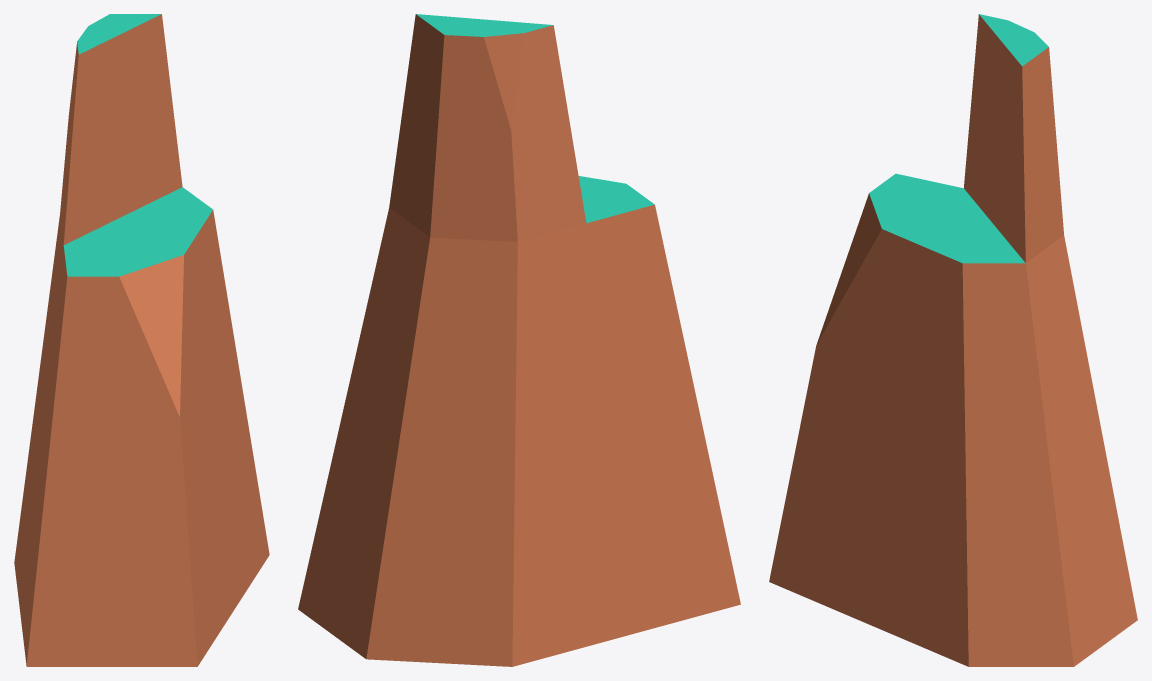
Rendered from rock_tallD.fbx.
The picture shows the model from 3 angles, left to right: view 1: azimuth 30°, elevation 25°; view 2: azimuth 150°, elevation 25°; view 3: azimuth 270°, elevation 25°; orthographic projection. The views are drawn at different scales.
Parts seen in each view (by area): view 1: rock_tallD; view 2: rock_tallD; view 3: rock_tallD.
Boxes of the visible parts, <box> form: rock_tallD: <box>14,14,269,666</box>; rock_tallD: <box>298,14,740,666</box>; rock_tallD: <box>769,14,1137,666</box>.
Size of the model in its own units: 4.43 by 7.72 by 4.61.
